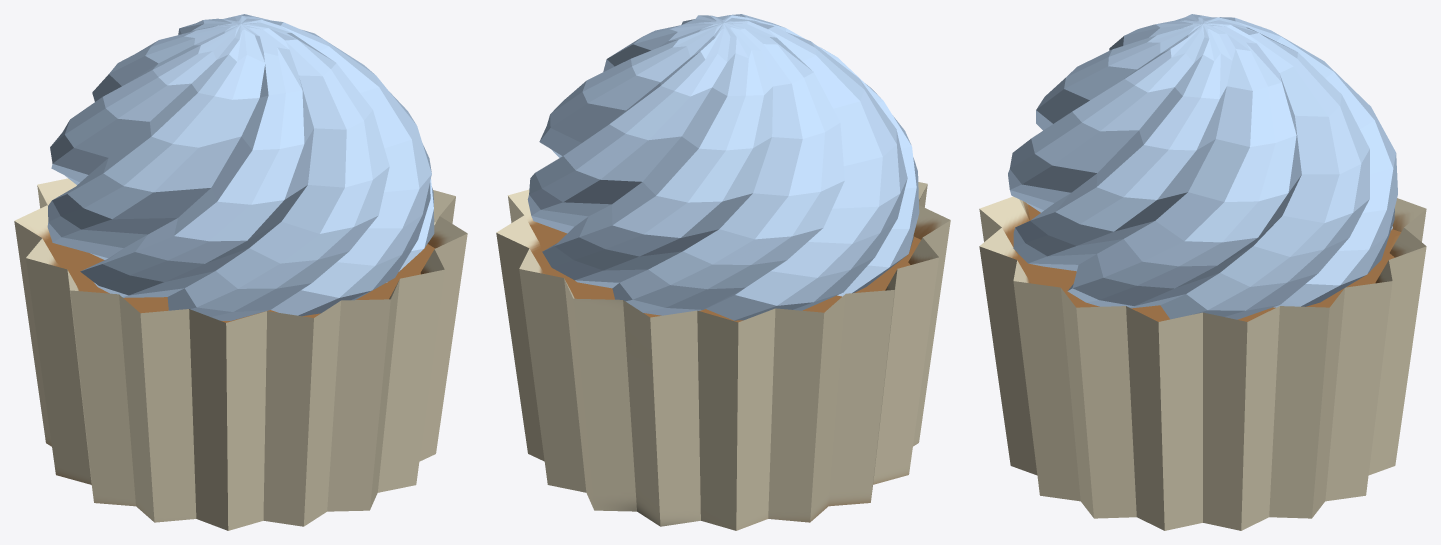
Rendered from Cupcake.fbx.
3 views of the same model, side by side, from view 1: azimuth 30°, elevation 25°; view 2: azimuth 150°, elevation 25°; view 3: azimuth 270°, elevation 25° (orthographic).
Visible parts, largest first — view 1: Cupcake; view 2: Cupcake; view 3: Cupcake.
Part boxes in pixels (x1,y1,x2,y2): Cupcake: (14, 14, 467, 530); Cupcake: (496, 14, 950, 530); Cupcake: (979, 14, 1426, 530).
Bounding box in the file's own units: 124 × 130 × 124.
